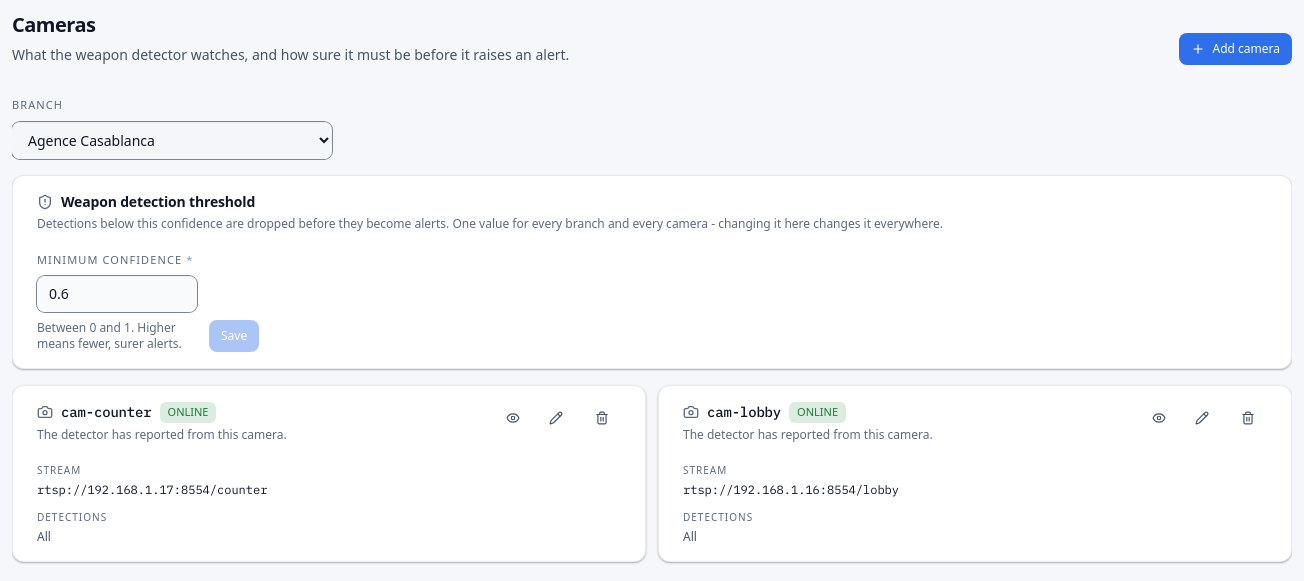
Test: Cameras › lets an admin switch branch and sees the other list
Expected: the heading "cam-lobby" is shown, [707,402,781,422]
Select "Agence Rabat" in the dropdown labelled "Branch" at (172, 140), box [12,122,332,158]
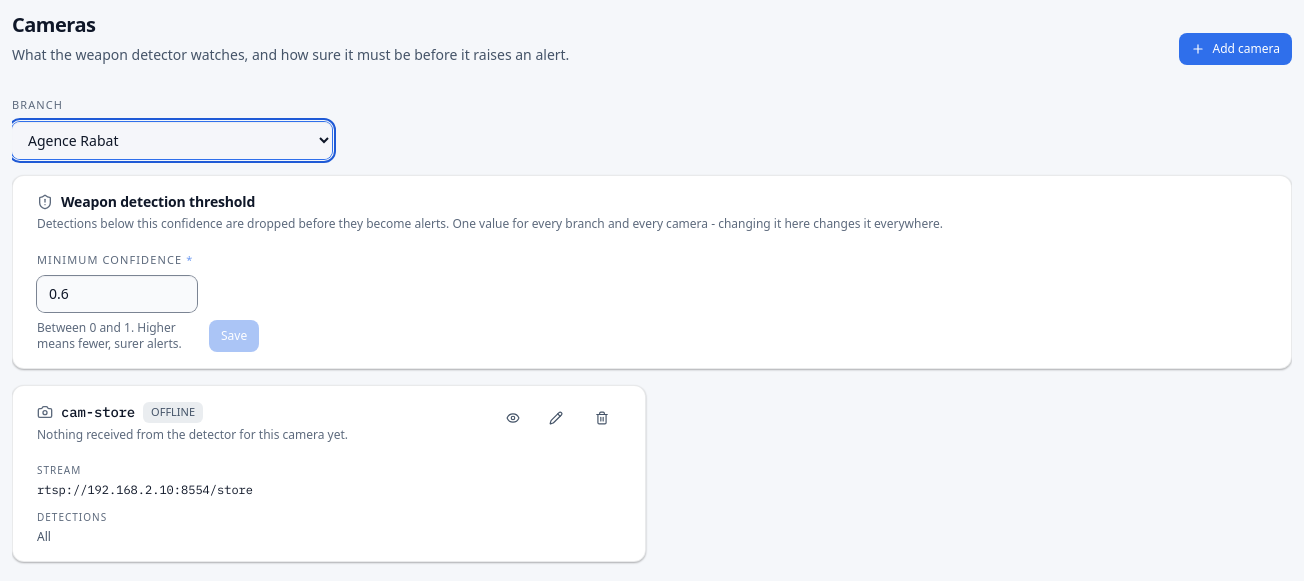
Result: the heading "cam-store" is shown at [61,402,135,422]
Result: the heading "cam-lobby" is gone
Result: the text "OFFLINE" is shown at [143,402,203,422]
